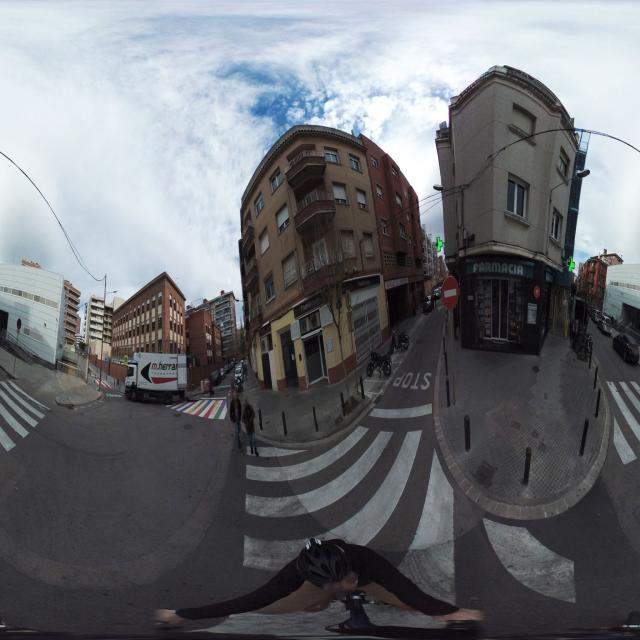forb_stopping: (17, 319, 21, 328)
